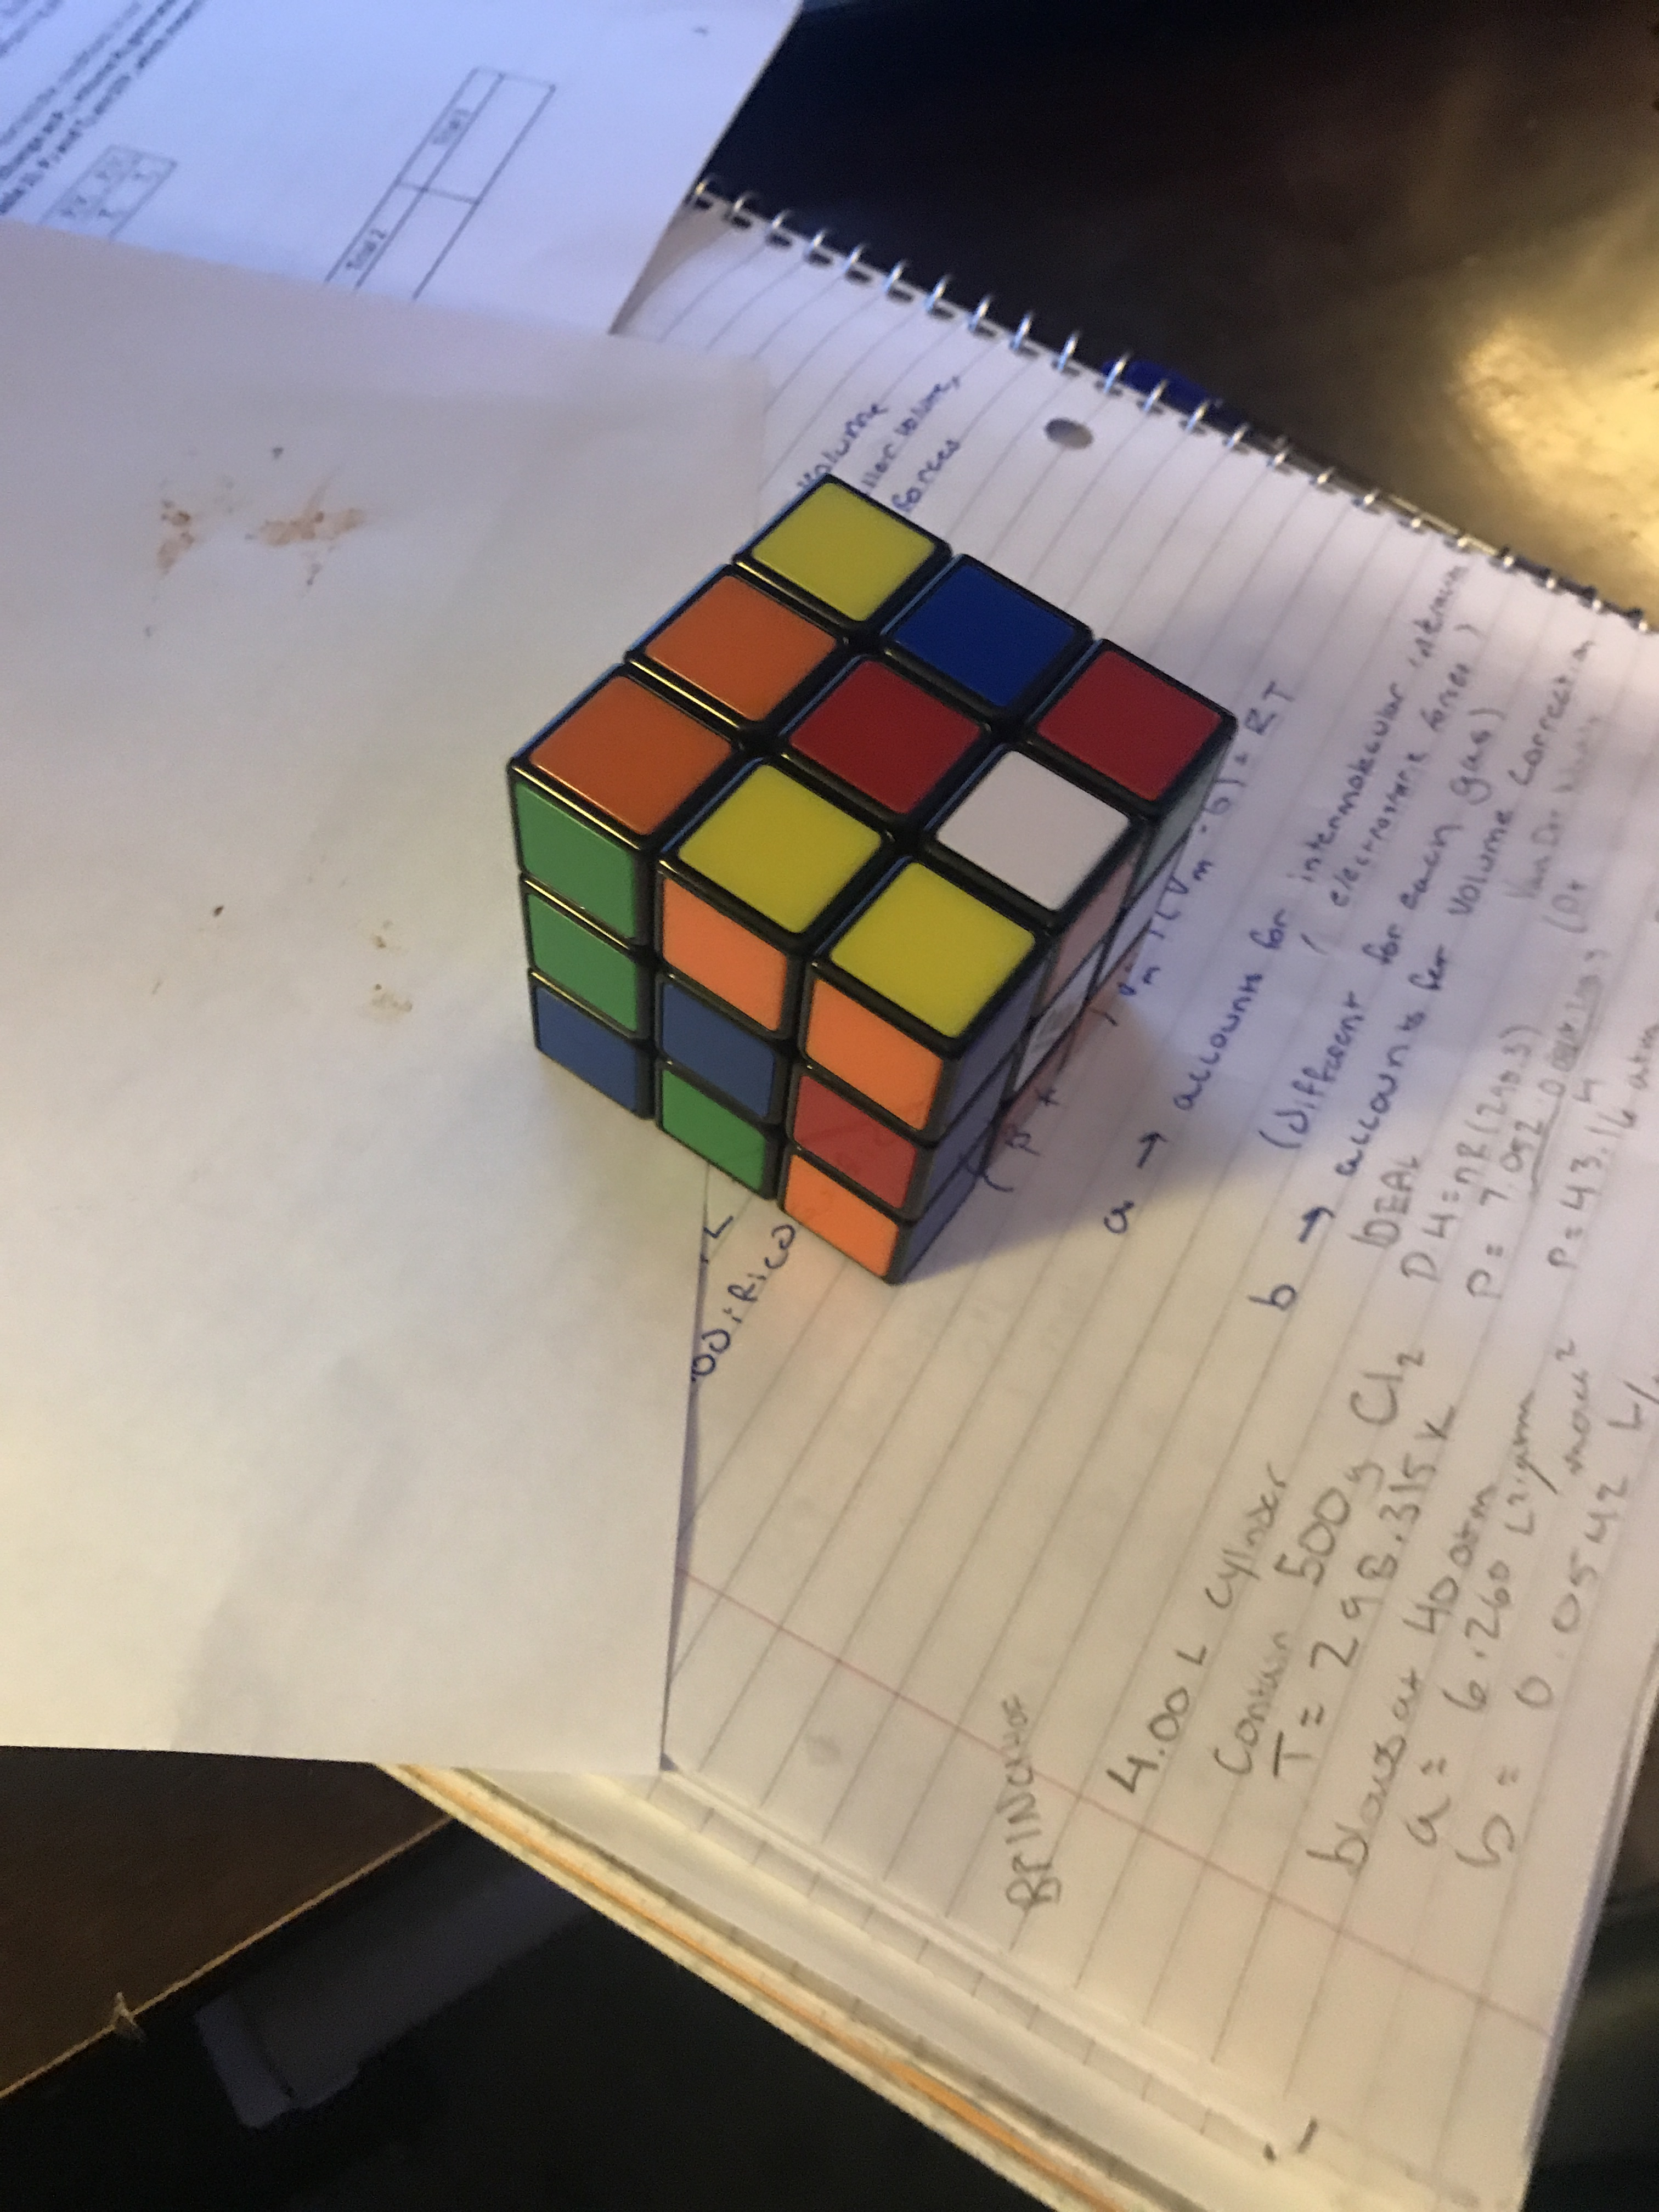rubiks: (483, 474, 1244, 1287)
